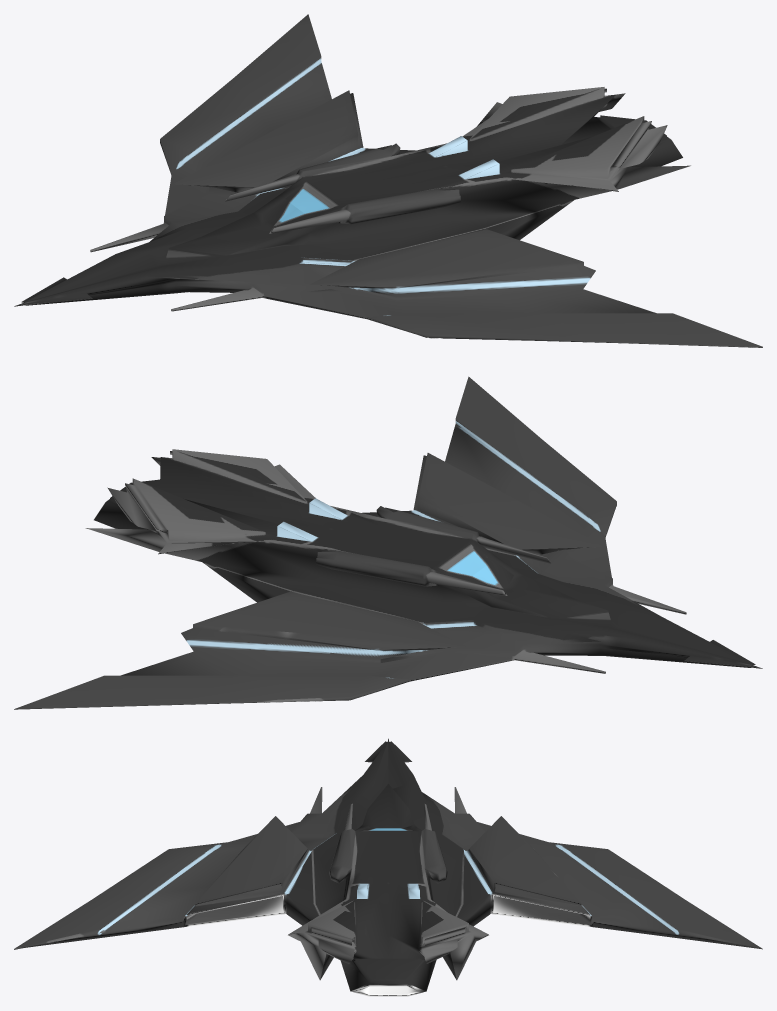
The model's file is jet_by_dommk.obj.
The picture shows the model from 3 angles, top to bottom: view 1: azimuth 30°, elevation 25°; view 2: azimuth 150°, elevation 25°; view 3: azimuth 270°, elevation 25°; orthographic projection. The views are drawn at different scales.
Parts seen in each view (by area): view 1: jet; view 2: jet; view 3: jet.
Boxes of the visible parts, x1,y1,x2,y2 form: jet: [14, 14, 762, 347]; jet: [14, 376, 762, 709]; jet: [14, 738, 762, 996].
Size of the model in its own units: 1966 by 201 by 2396.
